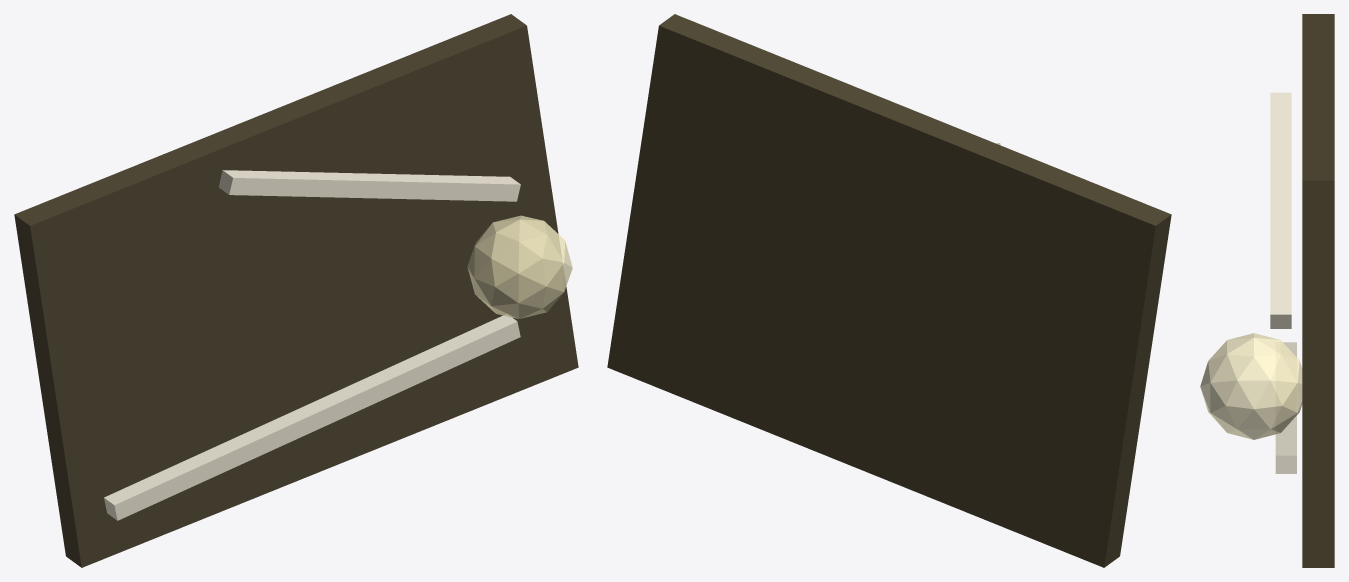
File: 02_world_prop_polish.glb
3 renders of one model, left to right at view 1: azimuth 30°, elevation 25°; view 2: azimuth 150°, elevation 25°; view 3: azimuth 270°, elevation 25°, orthographic. The views are drawn at different scales.
Visible parts, largest first — view 1: object_overlay_plate, edge_wear_a, glow_socket, edge_wear_b; view 2: object_overlay_plate; view 3: object_overlay_plate, glow_socket, edge_wear_b, edge_wear_a.
Boxes of the visible parts, left/top/right/bottom form: object_overlay_plate: left=14, top=14, right=578, bottom=567; edge_wear_a: left=104, top=314, right=520, bottom=520; glow_socket: left=467, top=215, right=572, bottom=318; edge_wear_b: left=219, top=170, right=520, bottom=201; object_overlay_plate: left=607, top=14, right=1171, bottom=567; object_overlay_plate: left=1302, top=14, right=1334, bottom=567; glow_socket: left=1200, top=333, right=1302, bottom=439; edge_wear_b: left=1270, top=92, right=1291, bottom=328; edge_wear_a: left=1275, top=342, right=1296, bottom=473.
Bounding box in the file's own units: 1.2 × 0.9071 × 0.25.
